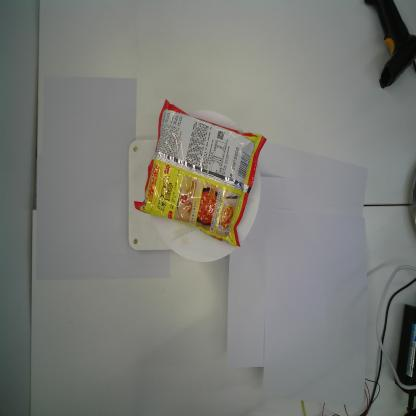Instant Noodles: (132, 97, 270, 249)
